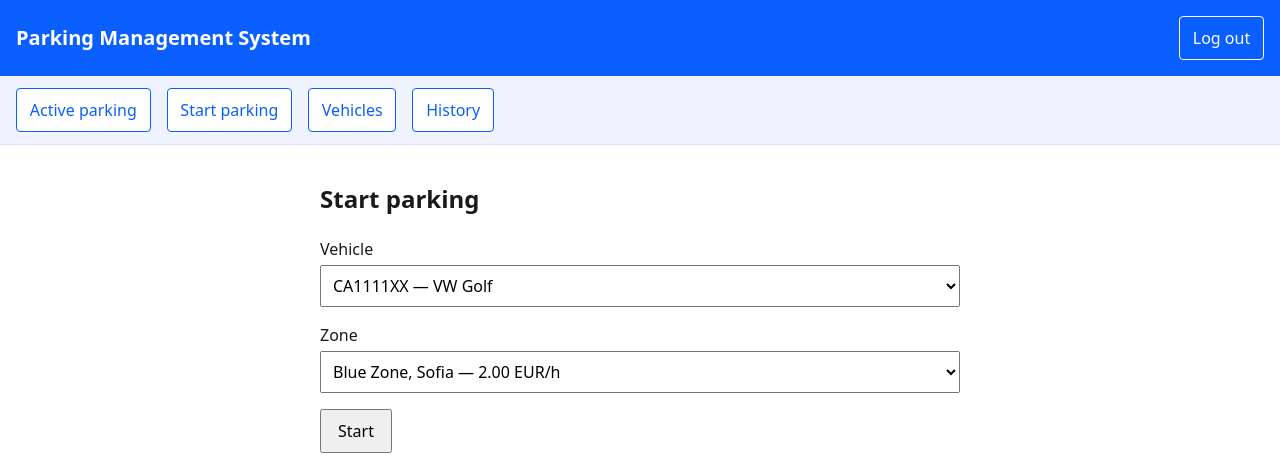
Test: ParkPage › posts the selected vehicle and zone and lands on the created session's detail screen
Select "Green Zone, Sofia — 1.50 EUR/h" in the dropdown labelled "Zone" at (640, 372), box left=320, top=351, right=960, bottom=393
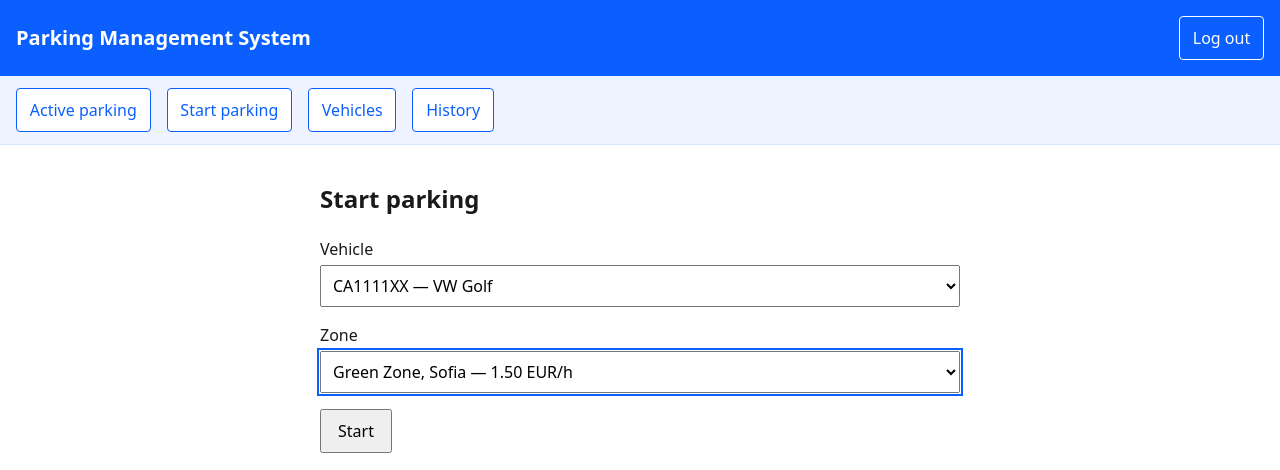
Click the button "Start" at (356, 431), box left=320, top=409, right=392, bottom=453
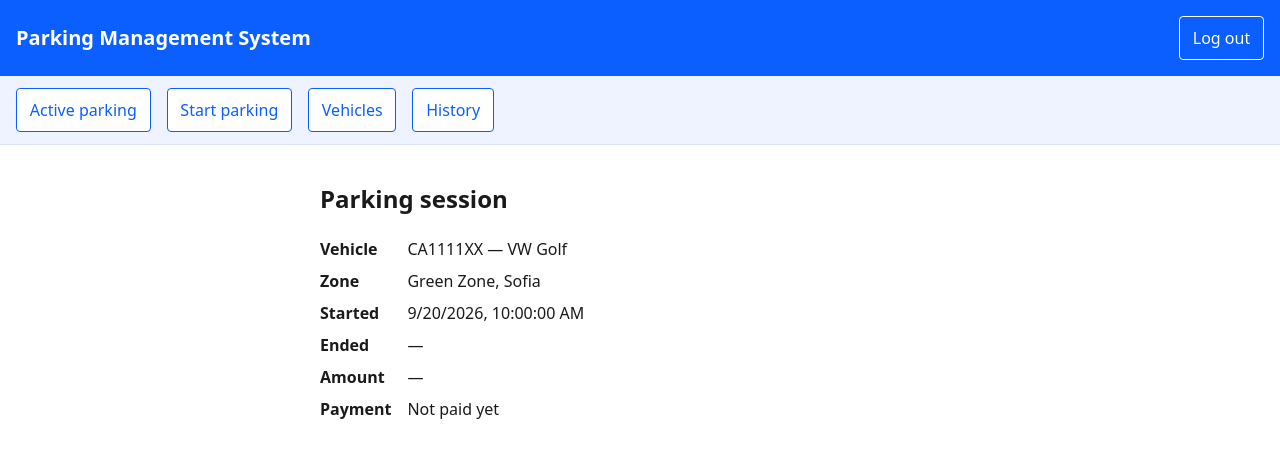
Expected: the text "CA1111XX — VW Golf" is shown, left=408, top=238, right=567, bottom=260
Expected: the text "Green Zone, Sofia" is shown, left=408, top=270, right=541, bottom=292
